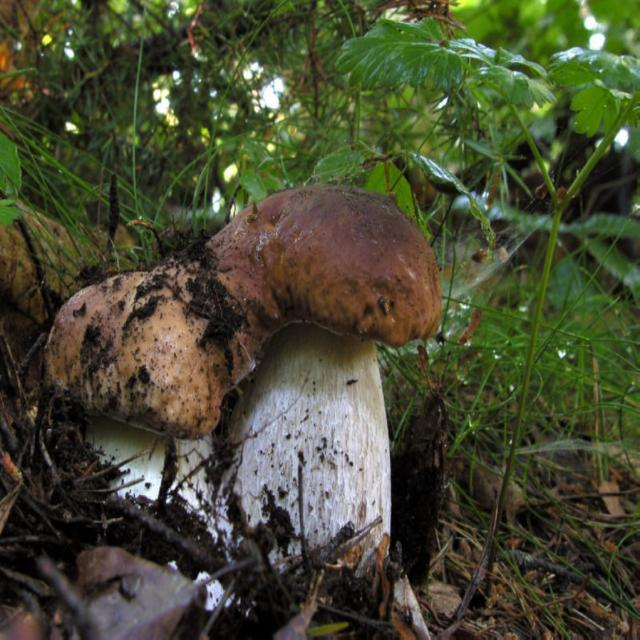Boletus: (211, 188, 439, 574), (53, 278, 223, 574)
